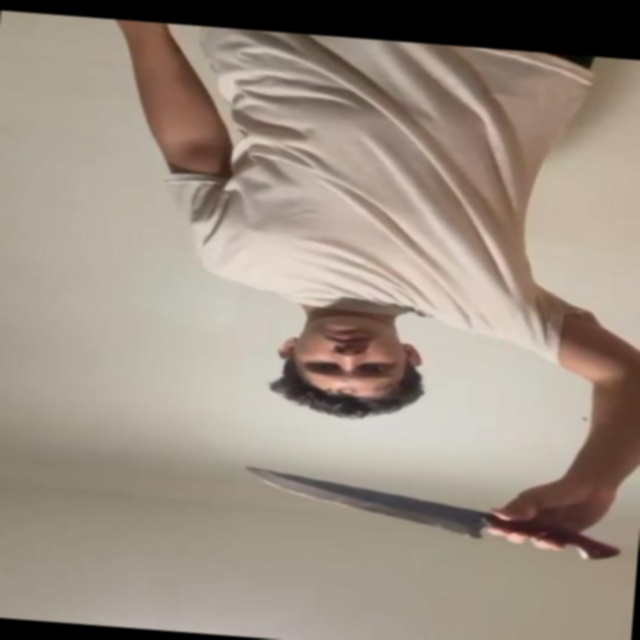Sharp-Object: (239, 469, 488, 539)
